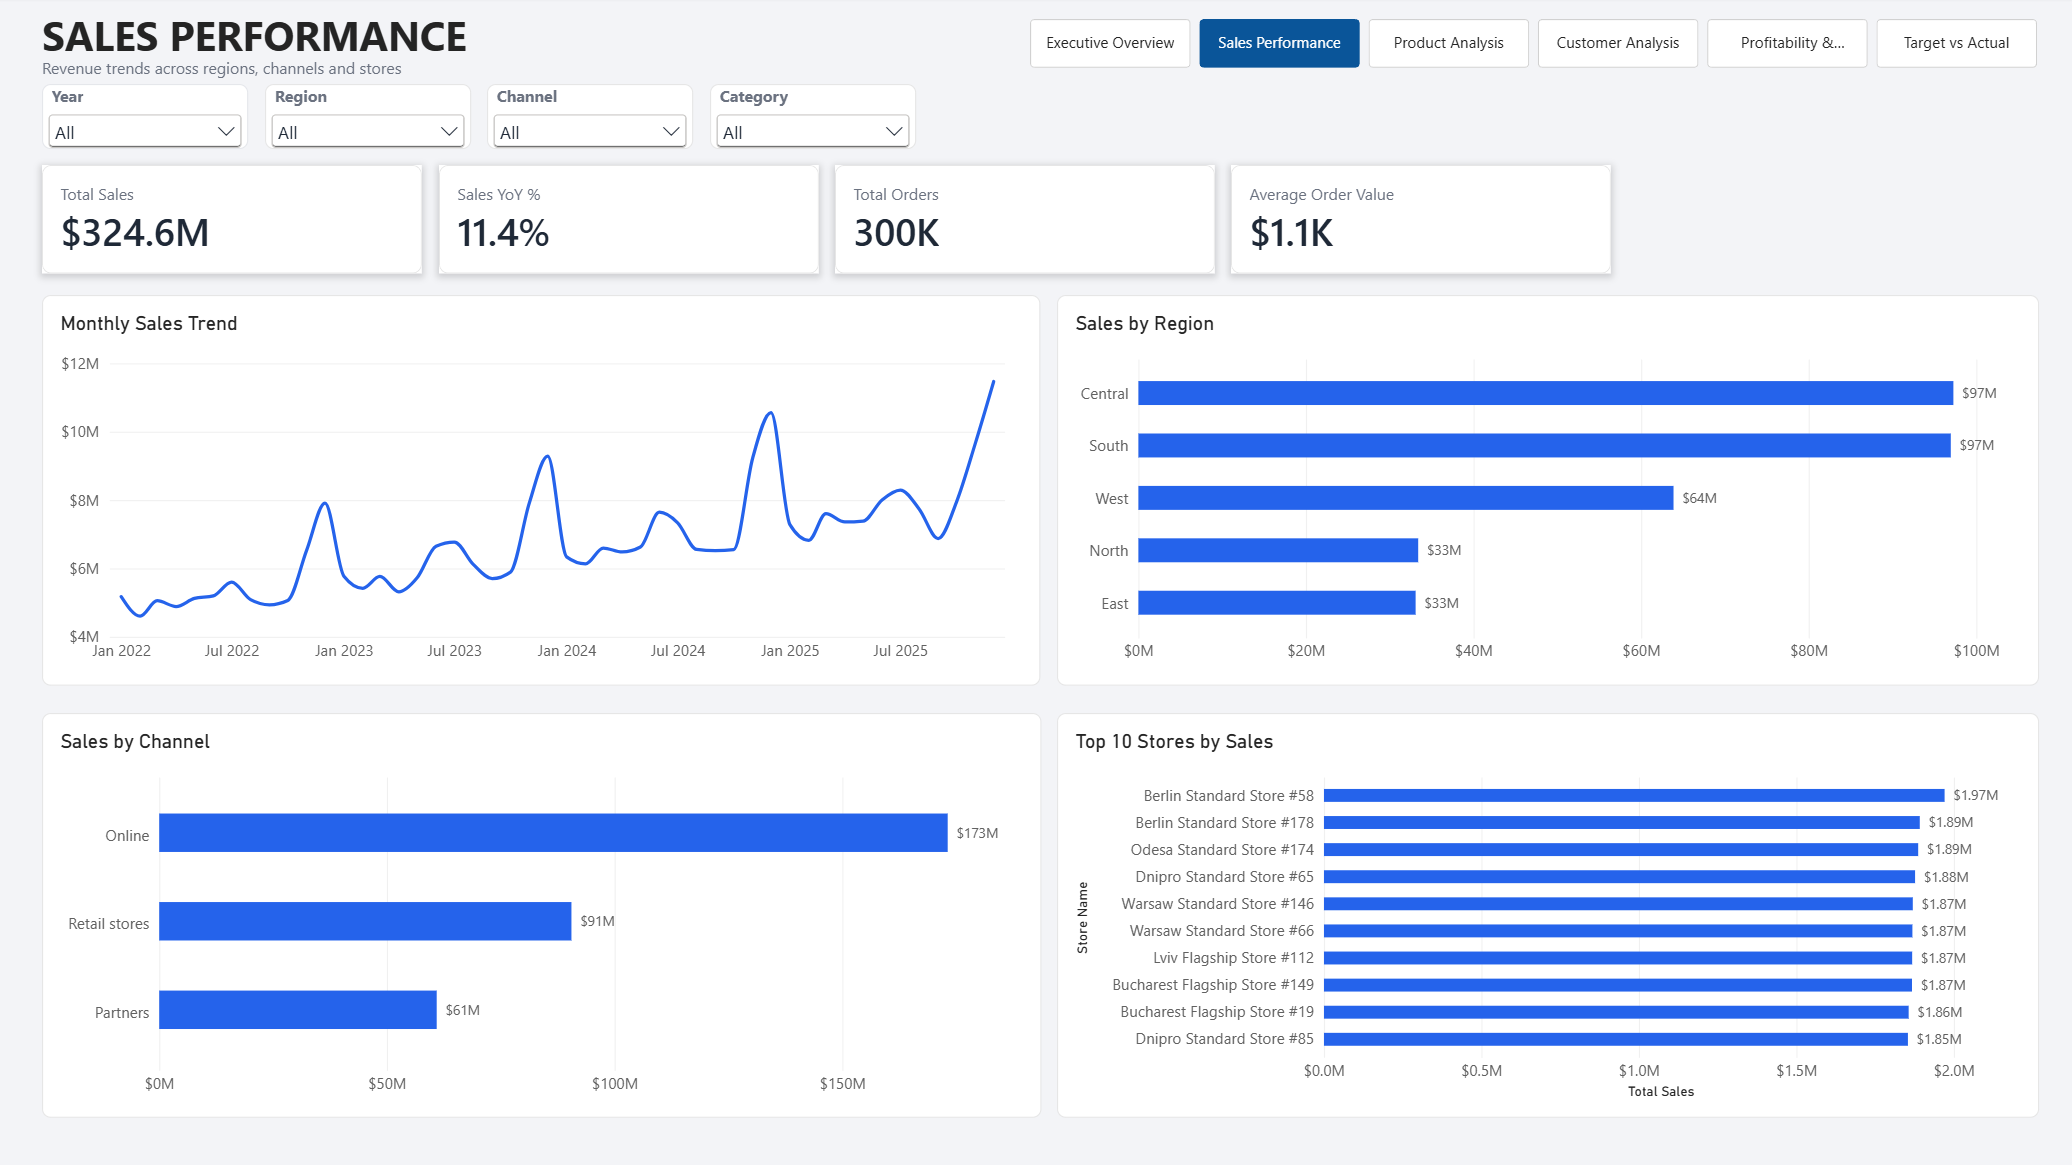

What the dashboard file says about the page in this screenshot:
{"tool":"powerbi","page":{"name":"Sales Performance","canvas":[1920,1080],"ordinal":1},"visuals":[{"type":"lineChart","title":"Monthly Sales Trend","fields":{"Category":["DimDate.YearMonth"],"Y":["_Measures.Total Sales"]},"box":[40,275,920,360],"z":0},{"type":"barChart","title":"Sales by Region","fields":{"Category":["DimRegion.Region"],"Y":["_Measures.Total Sales"]},"box":[975,275,905,360],"z":1000},{"type":"barChart","title":"Sales by Channel","fields":{"Category":["FactSales.Channel"],"Y":["_Measures.Total Sales"]},"box":[39.6,659.8,920.6,373.2],"z":2000},{"type":"clusteredBarChart","title":"Top 10 Stores by Sales","fields":{"Category":["DimStores.StoreName"],"Y":["_Measures.Total Sales"]},"box":[974.9,659.8,904.9,373.2],"z":3000},{"type":"slicer","fields":{"Values":["DimDate.Year"]},"box":[40,80,190,60],"z":4000},{"type":"slicer","fields":{"Values":["DimRegion.Region"]},"box":[245,80,190,60],"z":5000},{"type":"slicer","fields":{"Values":["FactSales.Channel"]},"box":[450,80,190,60],"z":6000},{"type":"slicer","fields":{"Values":["DimProducts.Category"]},"box":[655,80,190,60],"z":7000},{"type":"pageNavigator","box":[950,20,930,45.2],"z":8000},{"type":"textbox","box":[40,10,700,50],"z":9000},{"type":"cardVisual","fields":{"Data":["_Measures.Total Sales"]},"box":[40,155,350,100],"z":10000},{"type":"cardVisual","fields":{"Data":["_Measures.Sales YoY %"]},"box":[405,155,350,100],"z":11000},{"type":"cardVisual","fields":{"Data":["_Measures.Total Orders"]},"box":[770,155,350,100],"z":12000},{"type":"cardVisual","fields":{"Data":["_Measures.Average Order Value"]},"box":[1135,155.1,350,100],"z":13000},{"type":"textbox","box":[40,55,800,20],"z":14000}]}

Visuals, with their boxes in screenshot pixels (x1, y1, x2, y2), scaled from the page's 1920x1080 canvas onto the 2072x1165 screenshot:
"Monthly Sales Trend" lineChart: rect(43, 297, 1036, 685)
"Sales by Region" barChart: rect(1052, 297, 2029, 685)
"Sales by Channel" barChart: rect(43, 712, 1036, 1114)
"Top 10 Stores by Sales" clusteredBarChart: rect(1052, 712, 2029, 1114)
slicer - DimDate.Year: rect(43, 86, 248, 151)
slicer - DimRegion.Region: rect(264, 86, 469, 151)
slicer - FactSales.Channel: rect(486, 86, 691, 151)
slicer - DimProducts.Category: rect(707, 86, 912, 151)
pageNavigator: rect(1025, 22, 2029, 70)
textbox: rect(43, 11, 799, 65)
cardVisual - _Measures.Total Sales: rect(43, 167, 421, 275)
cardVisual - _Measures.Sales YoY %: rect(437, 167, 815, 275)
cardVisual - _Measures.Total Orders: rect(831, 167, 1209, 275)
cardVisual - _Measures.Average Order Value: rect(1225, 167, 1603, 275)
textbox: rect(43, 59, 906, 81)
